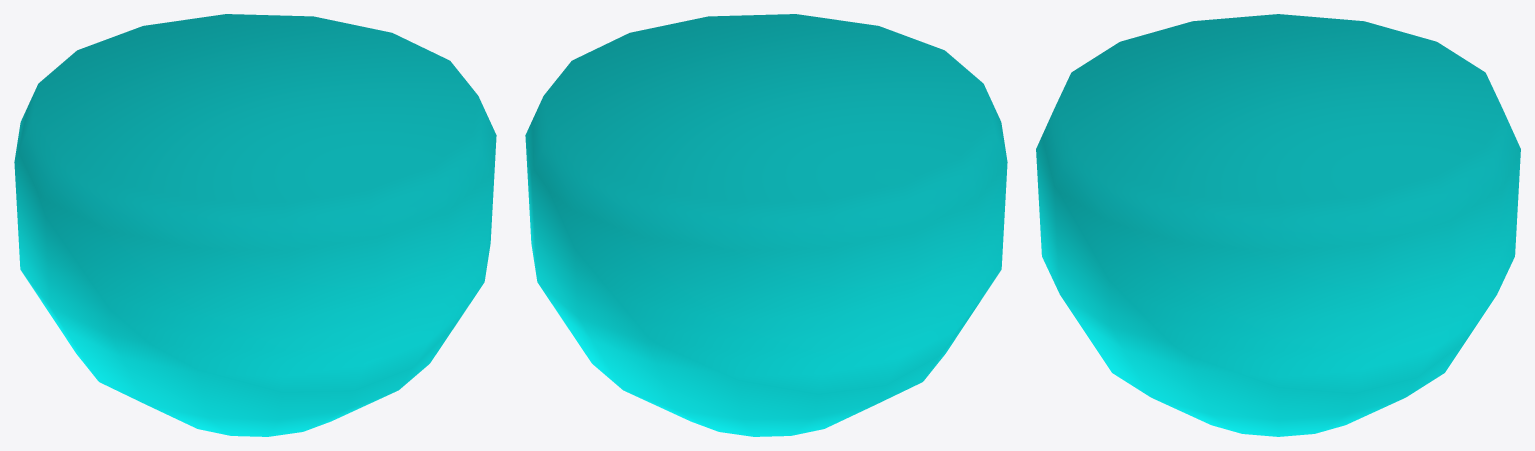
The model's file is WaterDrop_45.glb.
The picture shows the model from 3 angles, left to right: view 1: azimuth 30°, elevation 25°; view 2: azimuth 150°, elevation 25°; view 3: azimuth 270°, elevation 25°; orthographic projection.
Parts seen in each view (by area): view 1: WaterDrop_45; view 2: WaterDrop_45; view 3: WaterDrop_45.
Boxes of the visible parts, x1,y1,x2,y2 form: WaterDrop_45: (14,14,496,436); WaterDrop_45: (525,14,1007,436); WaterDrop_45: (1036,14,1520,436).
Size of the model in its own units: 0.5885 by 0.4006 by 0.5885.
Materials: 1 (1 with a texture image).
